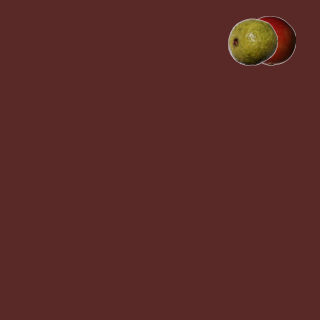Apple Braeburn: (245, 15, 295, 65)
Guava: (227, 16, 277, 66)
